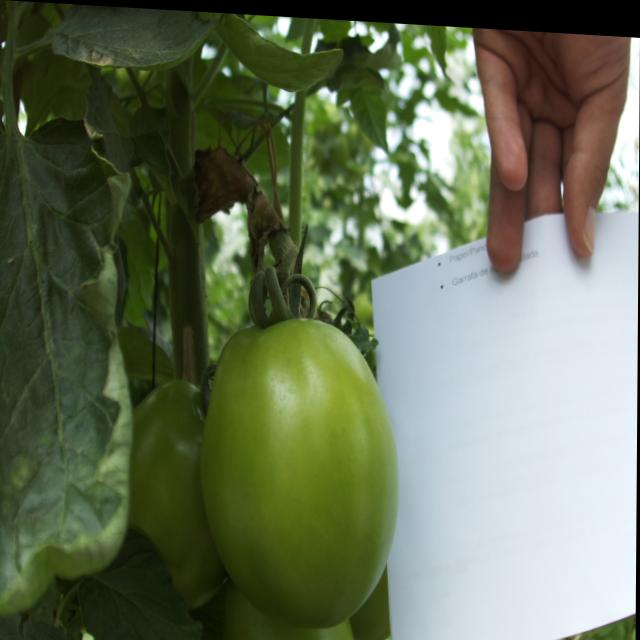sari: (127, 300, 402, 640)
yesil: (127, 288, 401, 640)
